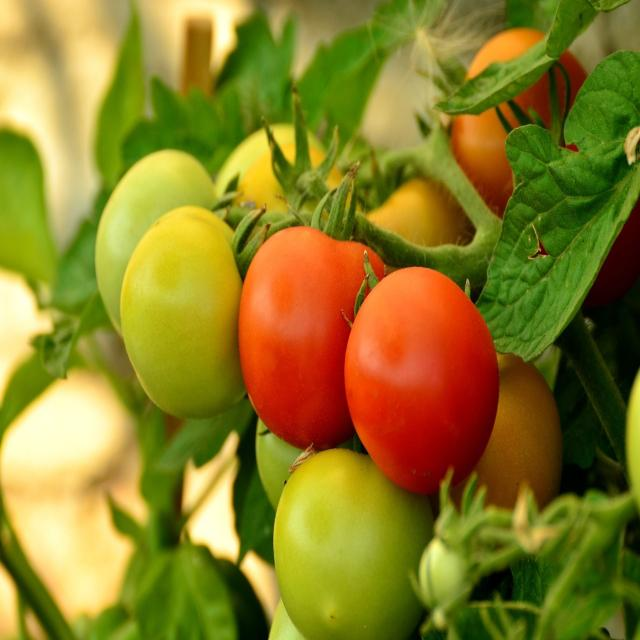level 2: (94, 150, 233, 354), (215, 121, 342, 292), (248, 370, 373, 533), (264, 565, 416, 640)
level 3: (120, 208, 255, 425), (274, 451, 432, 636), (232, 142, 362, 296)
level 4: (355, 181, 490, 345), (233, 140, 354, 316)
level 5: (452, 31, 608, 255)
level 6: (345, 268, 499, 496), (236, 225, 386, 447)
